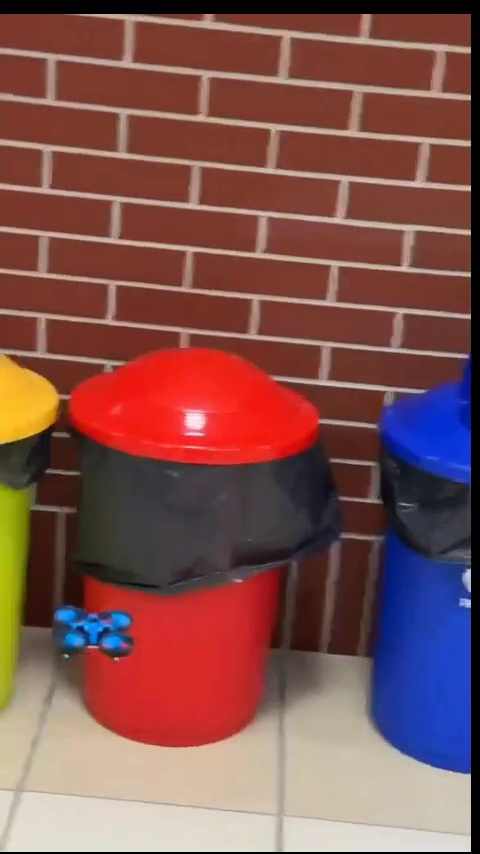drone: (50, 609, 135, 659)
